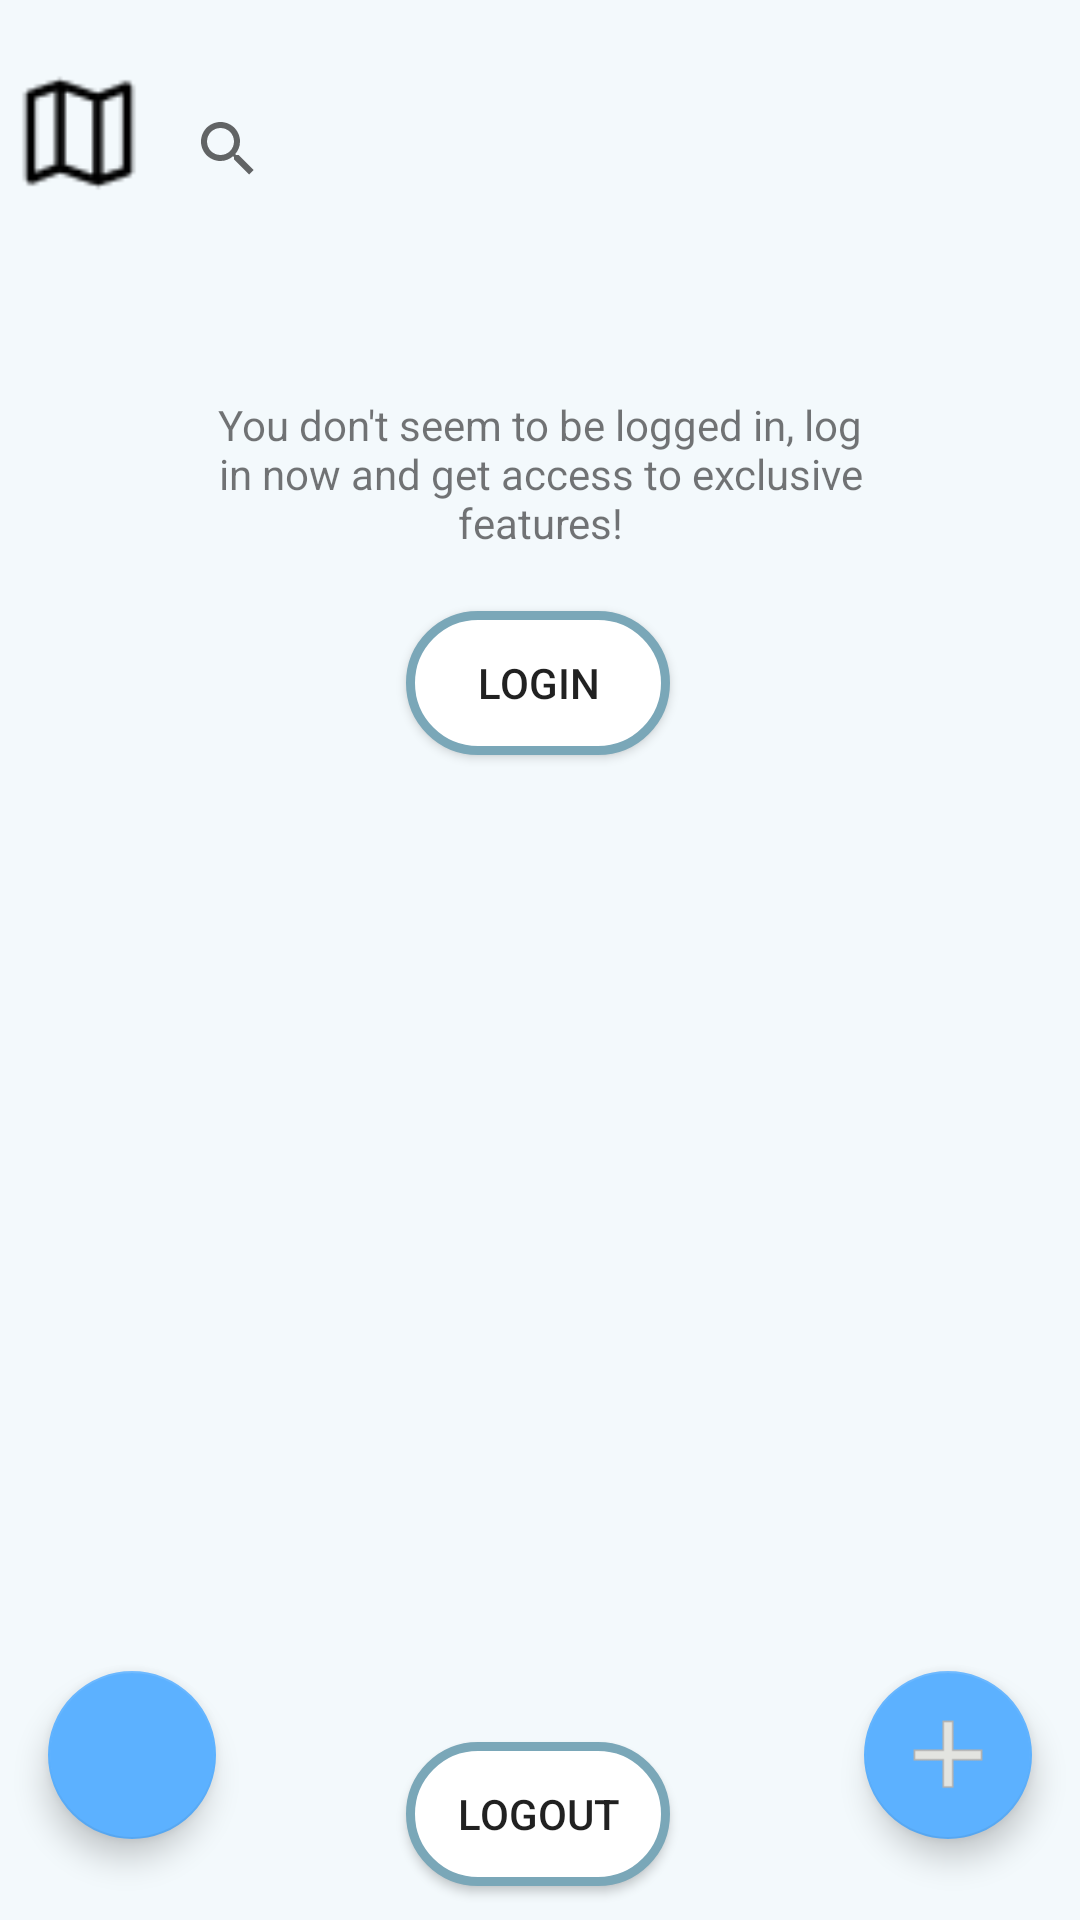

Screen size 1080 x 1920. Icon name, then its box in pixels as box=[x1, y1, x2, y2]:
Create Foodo List: box=[864, 1671, 1032, 1839]
